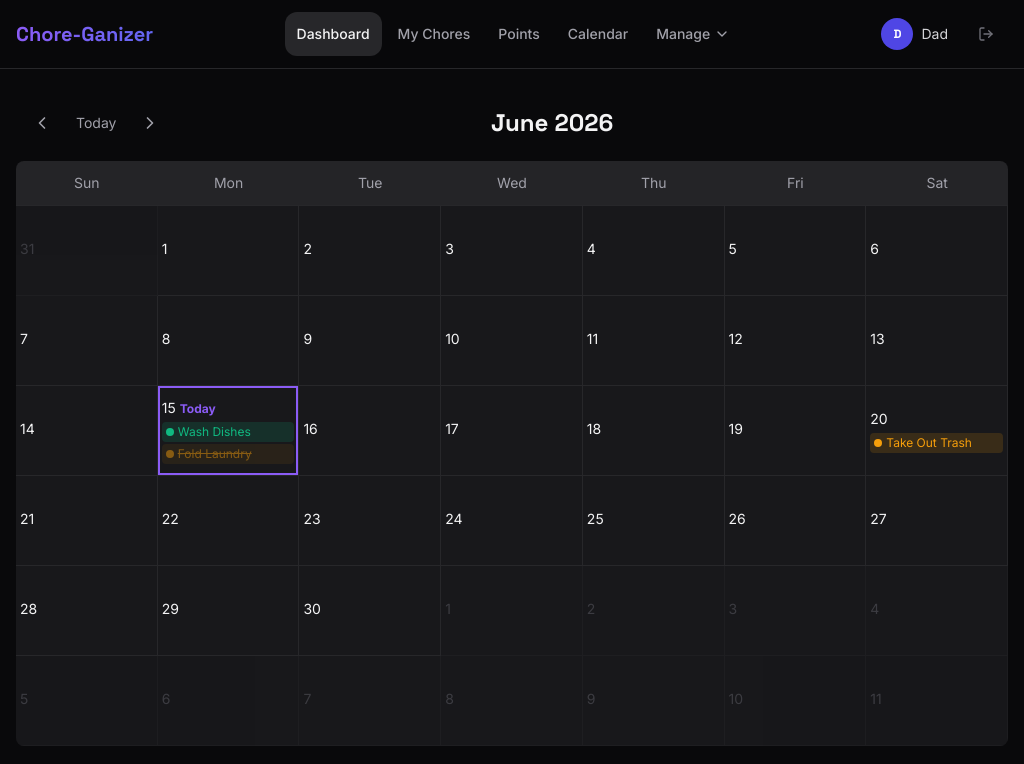
CalendarPage › opens a selected-date dialog with every chore for that date
The width and height of the screenshot is (1024, 764).
Click the button with aria-label "View chores for June 15, 2026" at (229, 431), box [158,386,299,476]
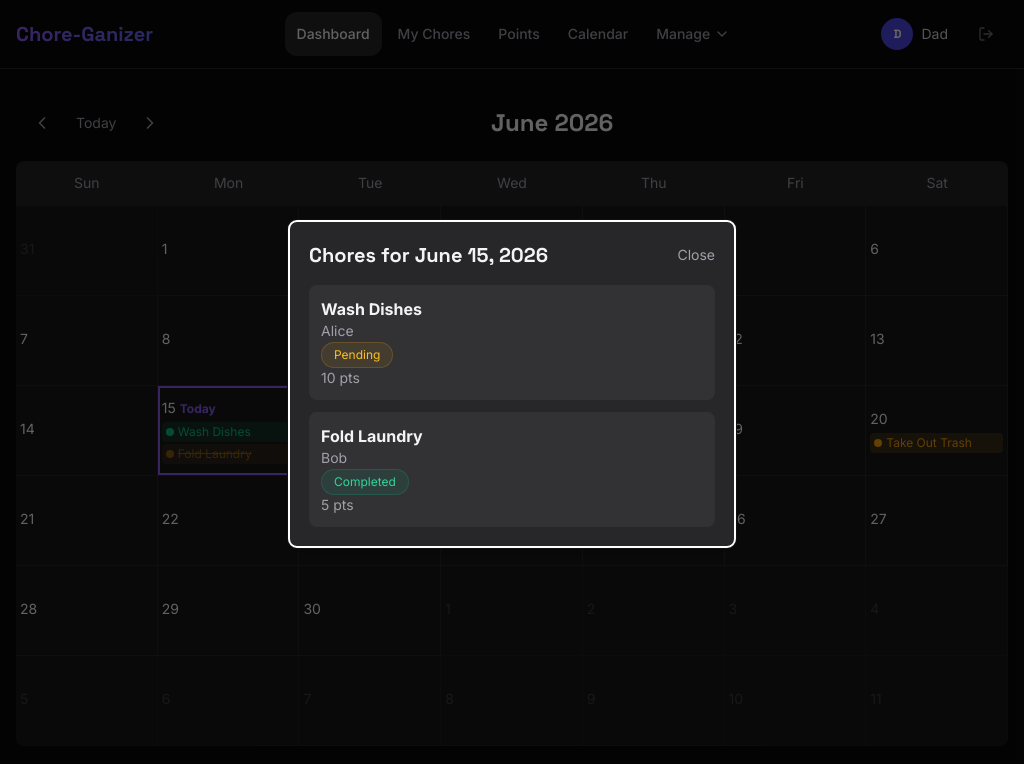
Result: the dialog "Chores for June 15, 2026" is shown at [288,220,736,548]
Result: the text "Wash Dishes" is shown at [321,299,422,319]
Result: the text "Fold Laundry" is shown at [321,426,423,446]
